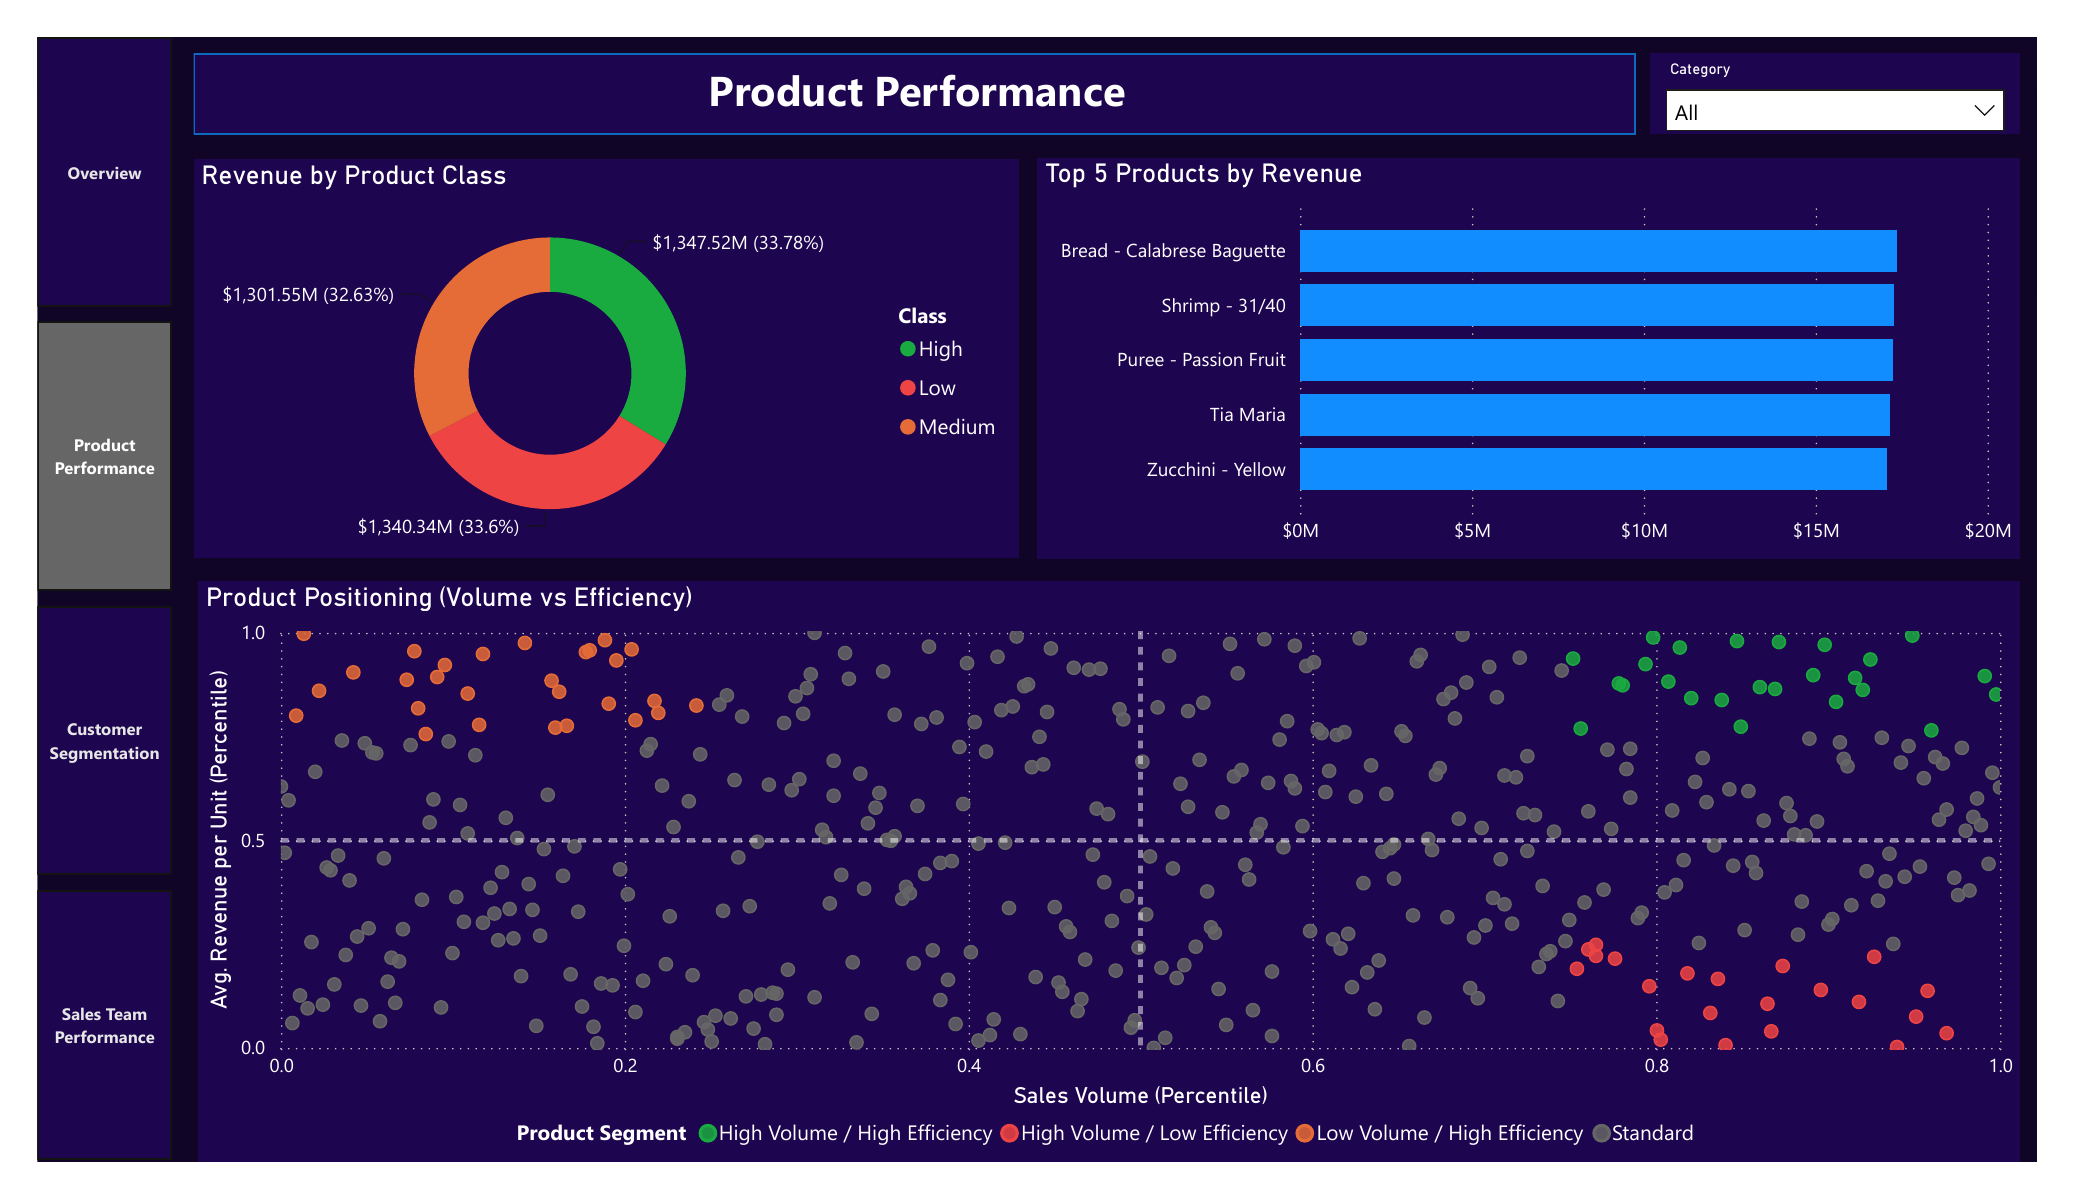

This screenshot's page, from the dashboard's own definition file:
{"tool":"powerbi","page":{"name":"Product Performance","canvas":[1280,720],"ordinal":1},"visuals":[{"type":"pageNavigator","box":[0,0,86.2,720],"z":0},{"type":"shape","box":[100,10,923.3,52],"z":0,"group":"g1"},{"type":"textbox","box":[104,10,918.4,52.2],"z":1000,"group":"g1"},{"type":"slicer","fields":{"Values":["Dim_Category.categoryname"]},"box":[1032.2,10,236.7,52.2],"z":1000},{"type":"clusteredBarChart","title":"Top 5 Products by Revenue","fields":{"Category":["fmcg vw_product_performance.productname"],"Y":["Sum(fmcg vw_product_performance.total_revenue)"]},"box":[640.5,77.3,628.2,256.4],"z":2000},{"type":"scatterChart","title":"Product Positioning (Volume vs Efficiency)","fields":{"X":["Avg(fmcg vw_product_segment.quantity_percentile)"],"Y":["Avg(fmcg vw_product_segment.avg_revenue_per_unit_percentile)"],"Series":["fmcg vw_product_segment.product_segment"],"Category":["fmcg vw_product_segment.productname"]},"box":[102.7,348.2,1166.4,371.8],"z":3000},{"type":"donutChart","title":"Revenue by Product Class","fields":{"Category":["fmcg vw_class_performance.class"],"Y":["Sum(fmcg vw_class_performance.total_revenue)"]},"box":[100,77.5,527.5,255.6],"z":4000},{"type":"group","id":"g1","title":"Group 3","box":[100,10,923.3,52.2],"z":5000}]}

Visuals, with their boxes on the page's 1280x720 design canvas (x1, y1, x2, y2). These are canvas units, not pixel positions in the 2075x1200 screenshot, which may show the page scaled, cropped or inside an application window:
pageNavigator: {"left": 0, "top": 0, "right": 86, "bottom": 720}
shape: {"left": 100, "top": 10, "right": 1023, "bottom": 62}
textbox: {"left": 104, "top": 10, "right": 1022, "bottom": 62}
slicer - Dim_Category.categoryname: {"left": 1032, "top": 10, "right": 1269, "bottom": 62}
"Top 5 Products by Revenue" clusteredBarChart: {"left": 640, "top": 77, "right": 1269, "bottom": 334}
"Product Positioning (Volume vs Efficiency)" scatterChart: {"left": 103, "top": 348, "right": 1269, "bottom": 720}
"Revenue by Product Class" donutChart: {"left": 100, "top": 78, "right": 628, "bottom": 333}
"Group 3" group: {"left": 100, "top": 10, "right": 1023, "bottom": 62}
